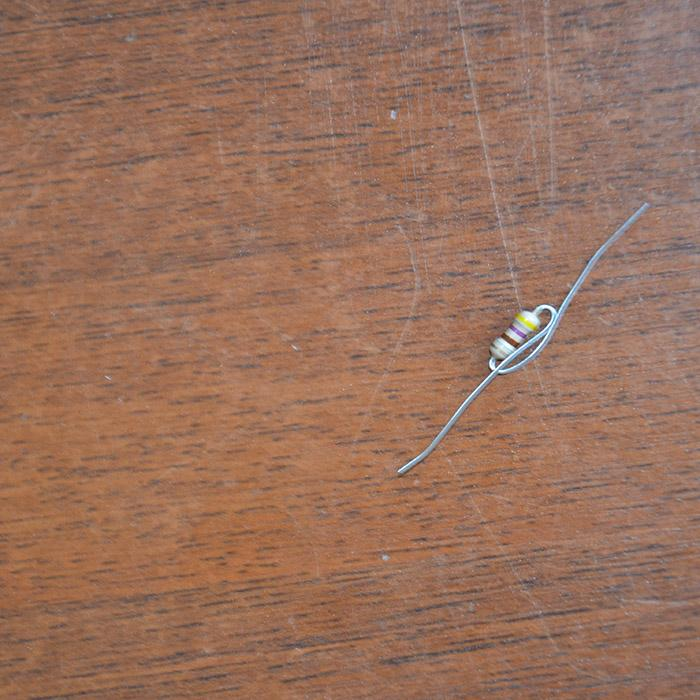resistor: (489, 307, 549, 361)
